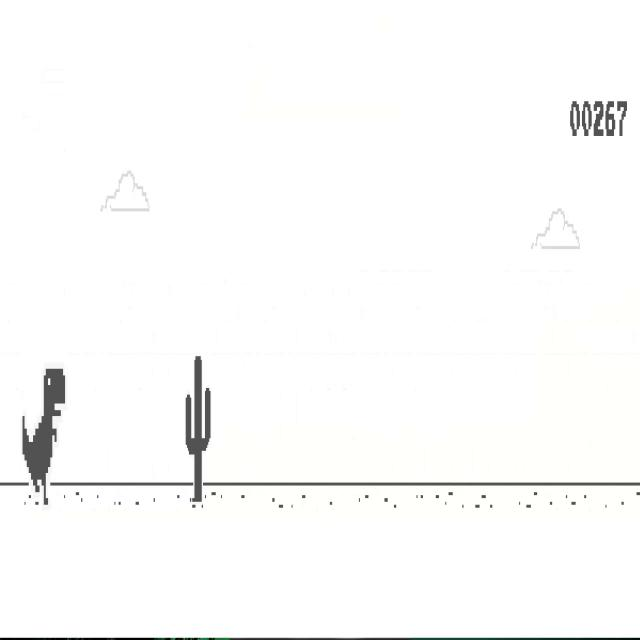cacto: (185, 354, 212, 503)
dino: (22, 366, 66, 506)
